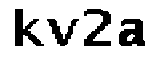2: (82, 6, 113, 50)
a: (118, 16, 146, 50)
k: (9, 5, 46, 52)
v: (49, 15, 79, 49)
